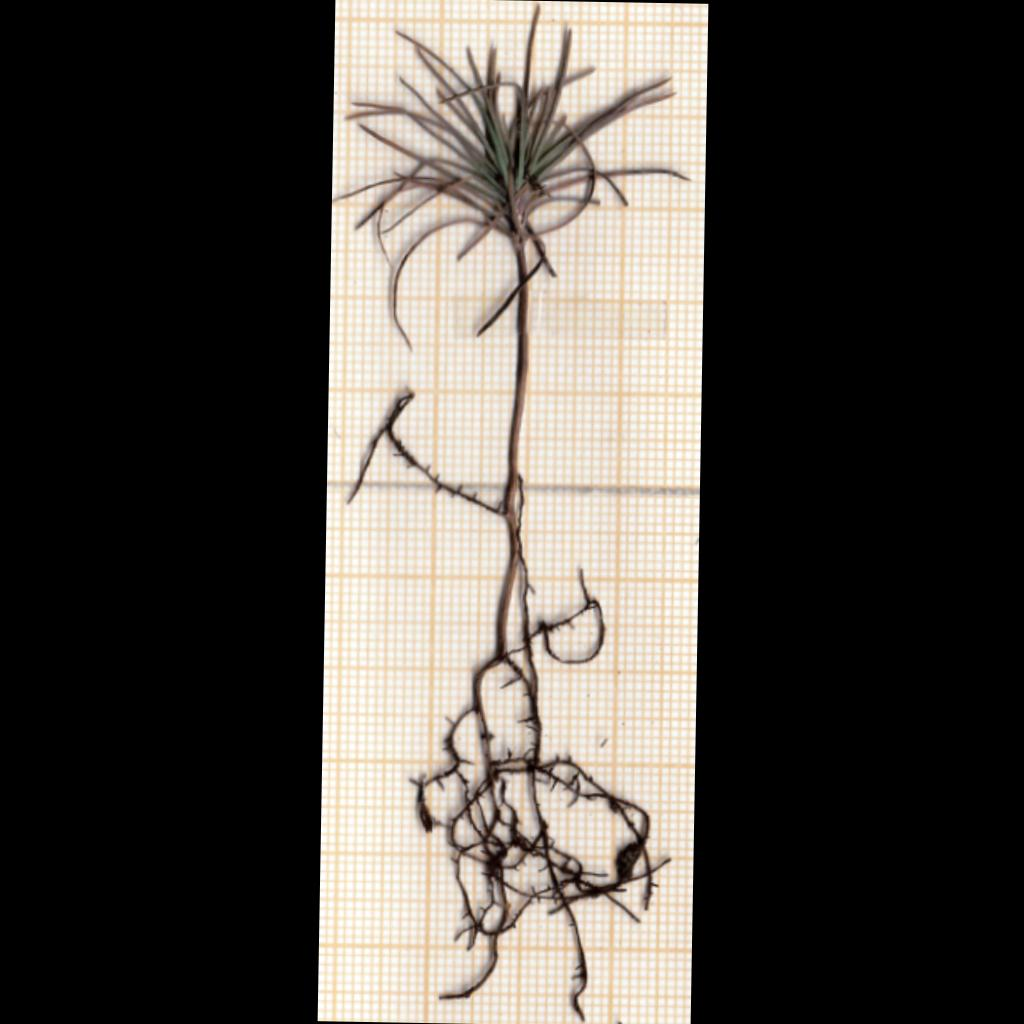flowerCedr: (348, 6, 687, 276)
rootCedr: (350, 393, 658, 1021)
stemCedr: (504, 249, 528, 512)
